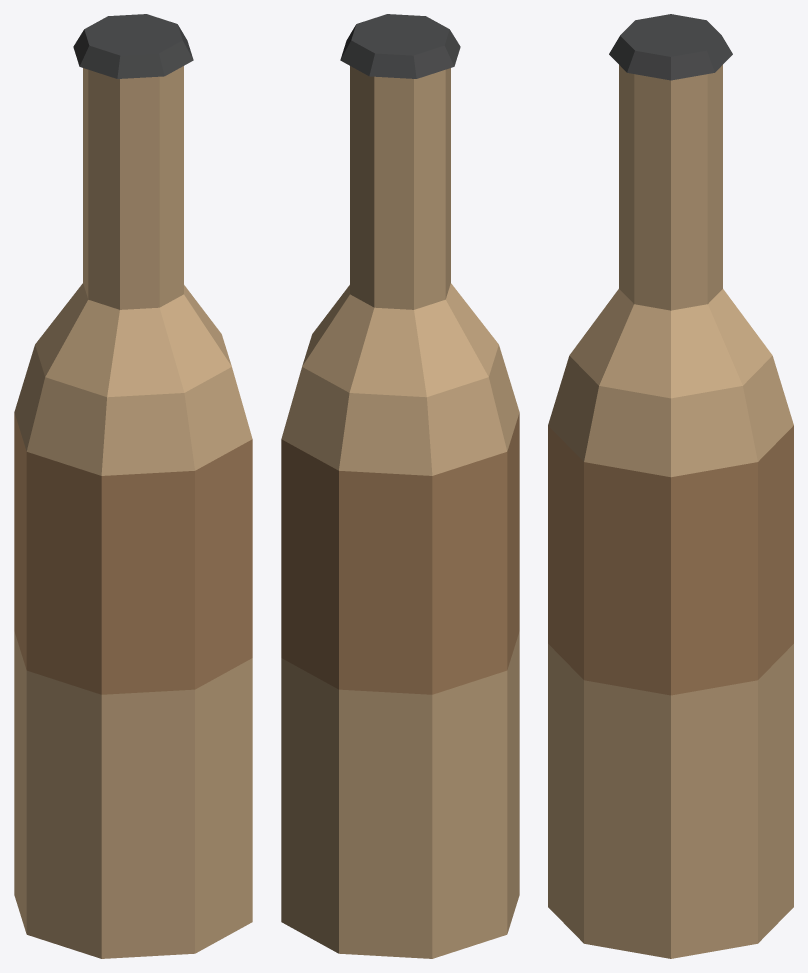
Rendered from SM_bottle_03.fbx.
The picture shows the model from 3 angles, left to right: view 1: azimuth 30°, elevation 25°; view 2: azimuth 150°, elevation 25°; view 3: azimuth 270°, elevation 25°; orthographic projection.
Parts seen in each view (by area): view 1: Cylinder030; view 2: Cylinder030; view 3: Cylinder030.
Part boxes in pixels (box(x1,y1,x2,y2)): Cylinder030: box(14, 14, 252, 958); Cylinder030: box(281, 14, 519, 958); Cylinder030: box(548, 14, 793, 958).
Size of the model in its own units: 3.95 by 3.95 by 15.44.
